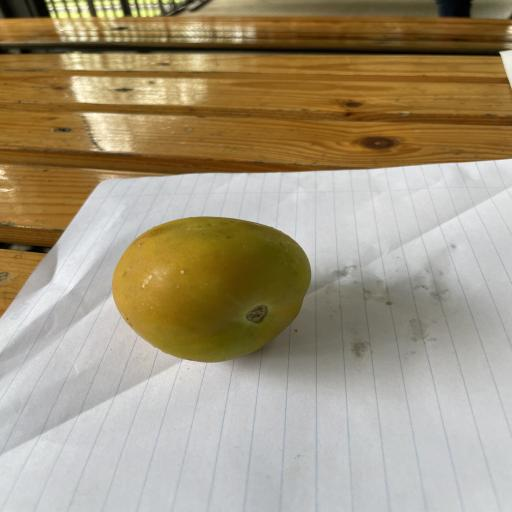unripe: (113, 217, 311, 362)
